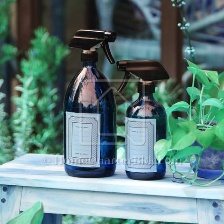bottle: (60, 50, 120, 180), (123, 81, 170, 180)
